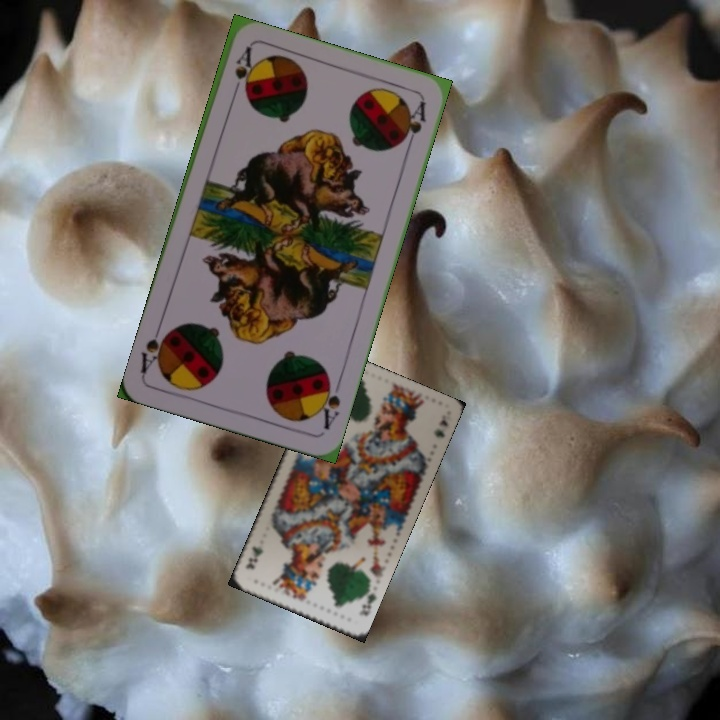GK: (355, 583, 379, 618)
SA: (313, 372, 343, 433), (227, 44, 254, 102)
